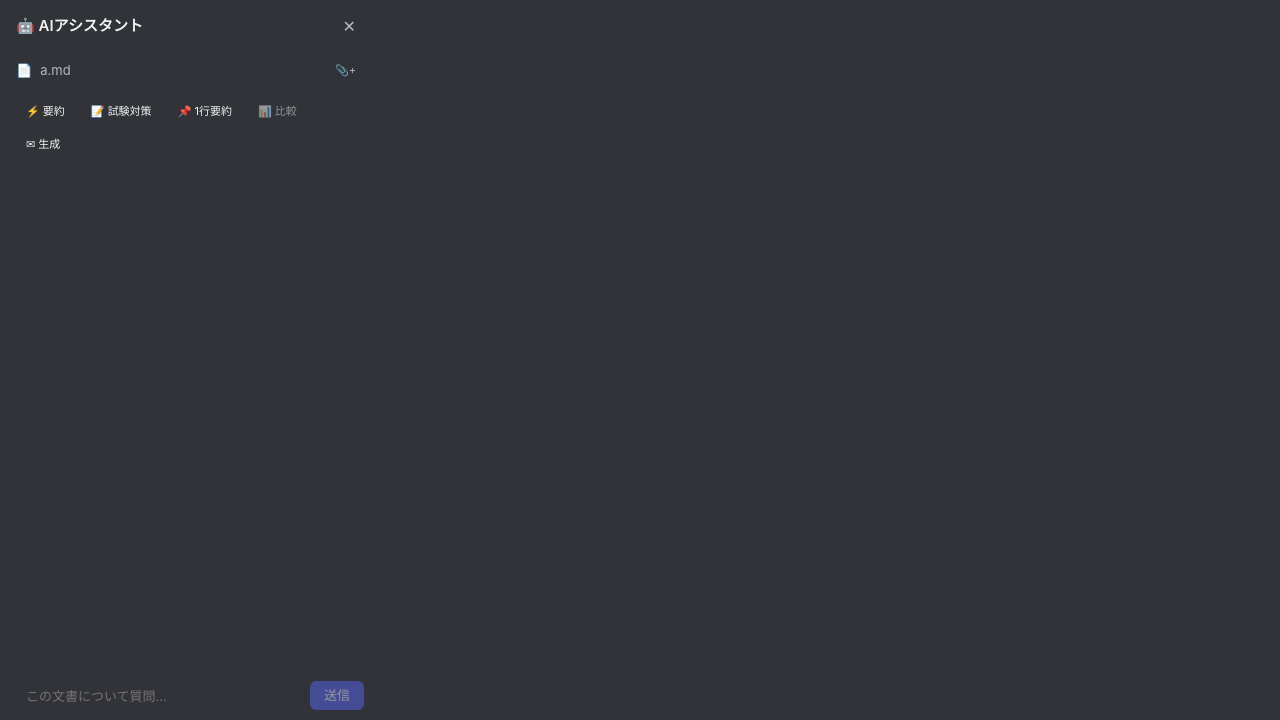
Scenario: DocAIPanel › opens the MultiDocPicker when 📎+ is clicked
The width and height of the screenshot is (1280, 720).
Click the button named "複数文書を選択". click: (346, 71)
box: [327, 61, 364, 80]
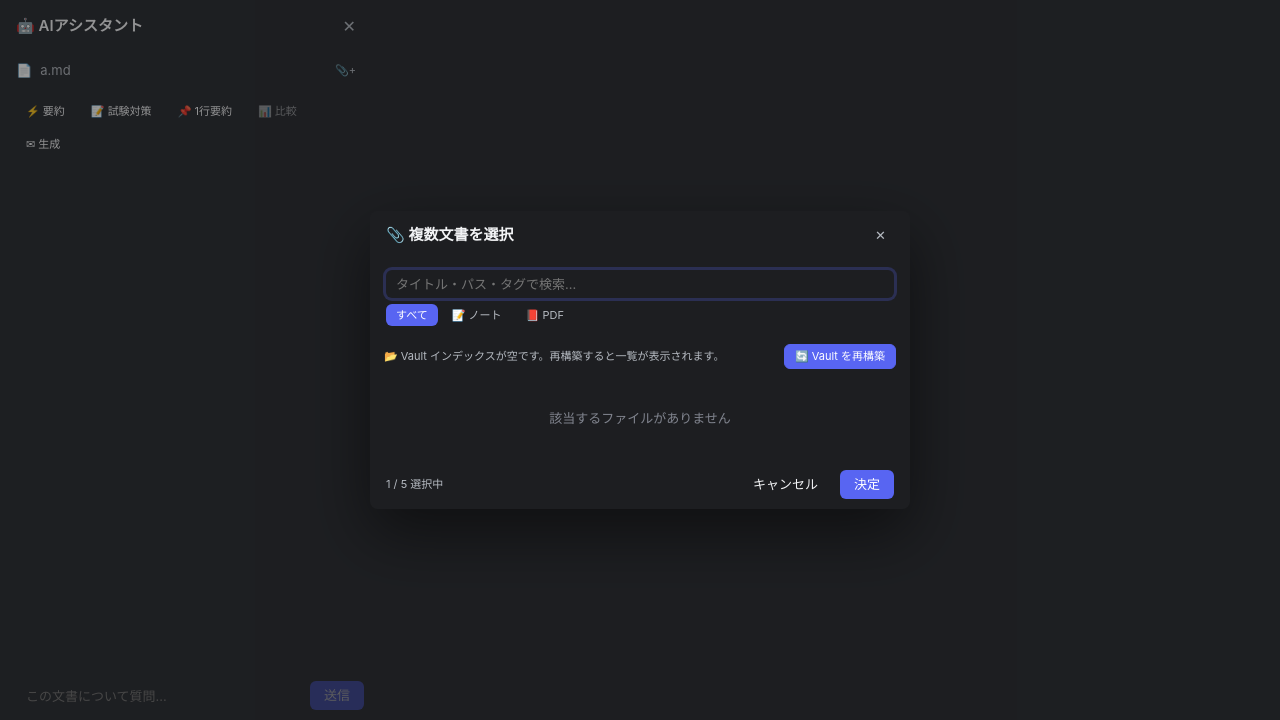
Result: the text "📎 複数文書を選択" is shown at [386, 224, 514, 247]
